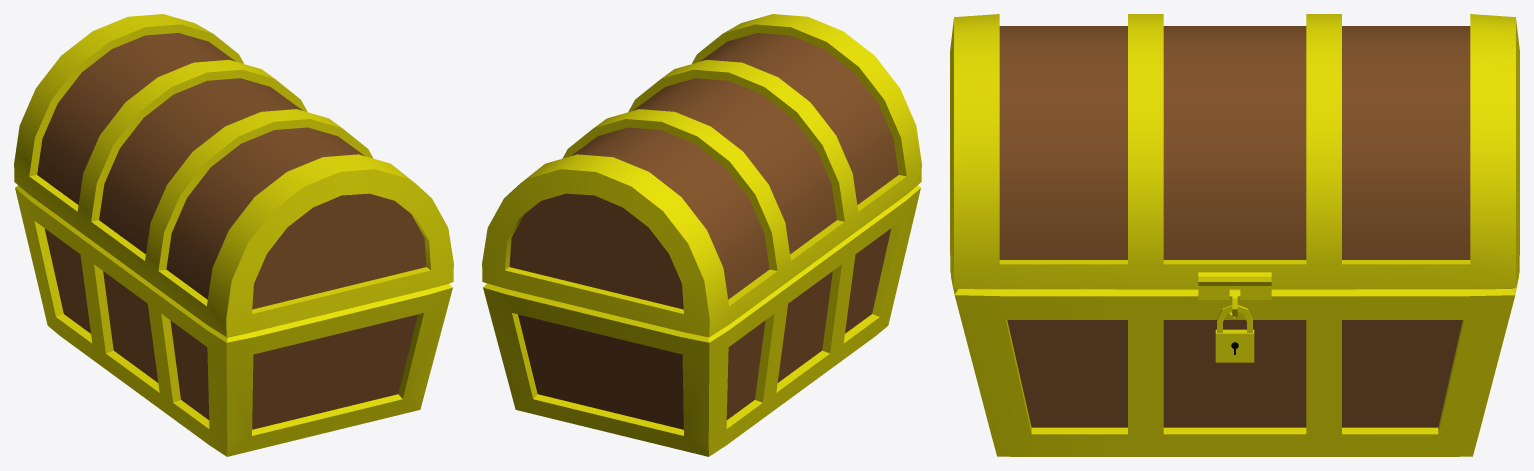
The model's file is cofre de el tesoro.fbx.
The picture shows the model from 3 angles, left to right: view 1: azimuth 30°, elevation 25°; view 2: azimuth 150°, elevation 25°; view 3: azimuth 270°, elevation 25°; orthographic projection. The views are drawn at different scales.
Parts seen in each view (by area): view 1: Plane; view 2: Plane; view 3: Plane.
Boxes of the visible parts, bbox=[...] form: Plane: bbox=[14, 14, 453, 456]; Plane: bbox=[482, 14, 921, 456]; Plane: bbox=[950, 14, 1519, 456].
Bounding box in the file's own units: 41.28 × 45.1 × 63.8.
